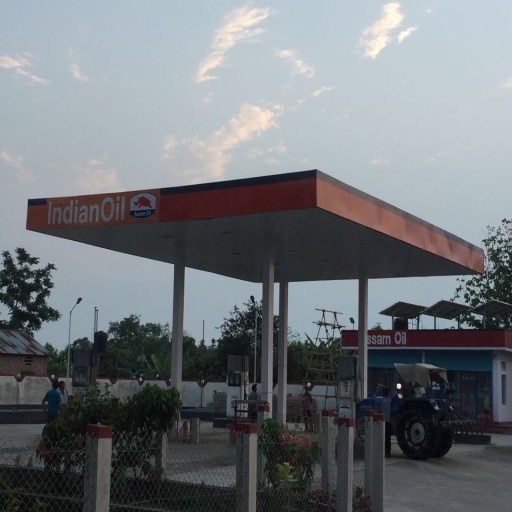roof: (28, 168, 484, 286)
